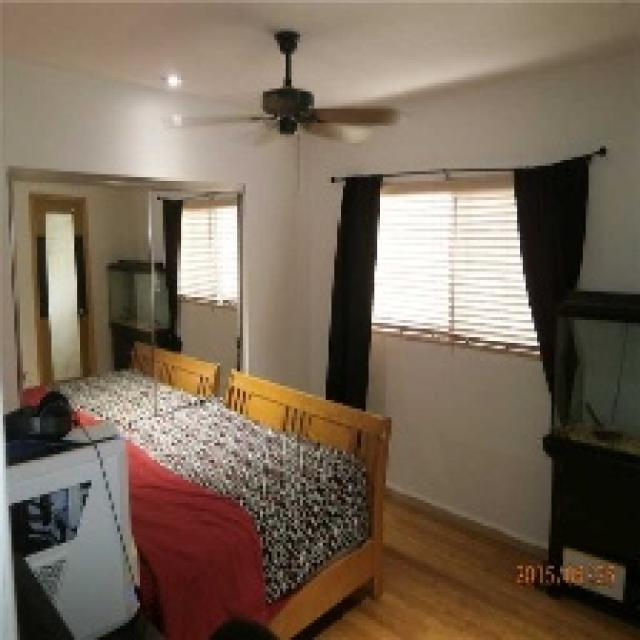Bed: (17, 340, 392, 637)
